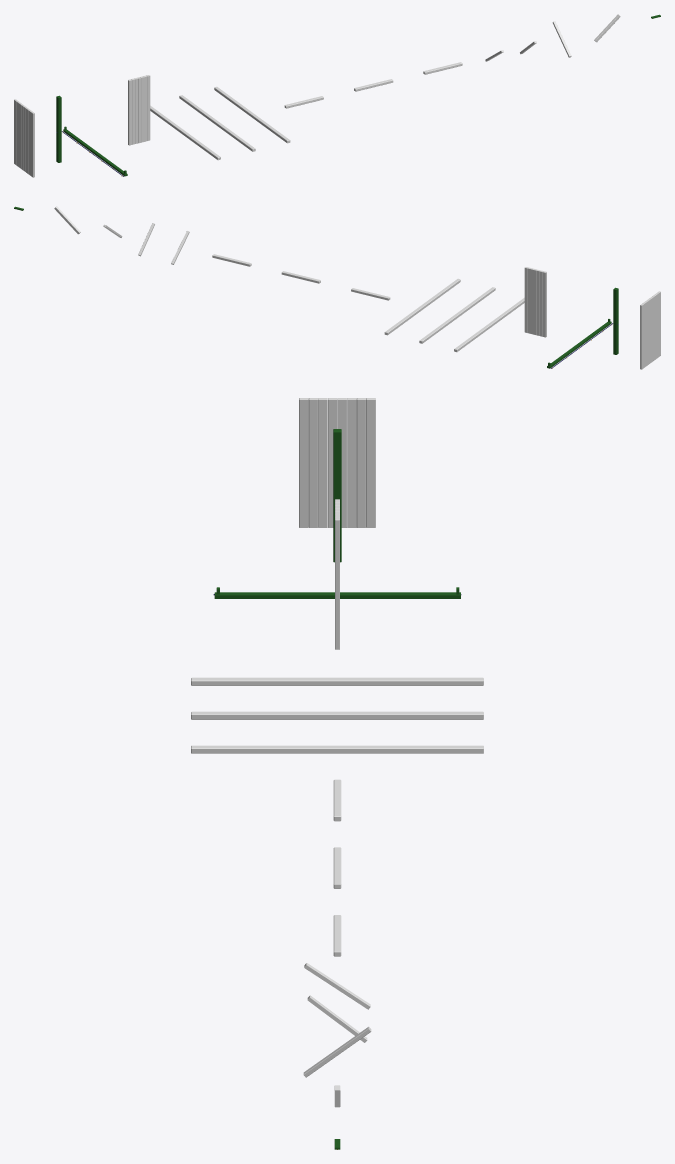
The model's file is 07_Architecture_low.fbx.
3 views of the same model, one above another, from view 1: azimuth 30°, elevation 25°; view 2: azimuth 150°, elevation 25°; view 3: azimuth 270°, elevation 25° (orthographic). The views are drawn at different scales.
Parts seen in each view (by area): view 1: ReturnWallBay_low, BackWallBay_low, WallBeam_02_low, WallBeam_03_low, CurtainHeader_low, WallBeam_01_low, BackWallPost_low; view 2: ReturnWallBay_low, BackWallBay_low, WallBeam_02_low, WallBeam_03_low, CurtainHeader_low, WallBeam_01_low, BackWallPost_low; view 3: BackWallBay_low, WallBeam_03_low, WallBeam_01_low, WallBeam_02_low, CurtainHeader_low.
Boxes of the visible parts, x1,y1,x2,y2 form: ReturnWallBay_low: (128, 75, 150, 145); BackWallBay_low: (14, 99, 34, 177); WallBeam_02_low: (179, 95, 255, 151); WallBeam_03_low: (214, 86, 290, 143); CurtainHeader_low: (62, 126, 127, 176); WallBeam_01_low: (150, 105, 220, 160); BackWallPost_low: (56, 95, 61, 162); ReturnWallBay_low: (524, 267, 546, 337); BackWallBay_low: (640, 291, 660, 369); WallBeam_02_low: (419, 287, 495, 343); WallBeam_03_low: (384, 278, 460, 335); CurtainHeader_low: (547, 319, 612, 368); WallBeam_01_low: (454, 297, 524, 352); BackWallPost_low: (613, 287, 618, 354); BackWallBay_low: (299, 398, 375, 527); WallBeam_03_low: (191, 745, 483, 753); WallBeam_01_low: (191, 677, 483, 685); WallBeam_02_low: (191, 711, 483, 719); CurtainHeader_low: (213, 587, 461, 598).
Size of the model in its own units: 6884 by 1370 by 803.
